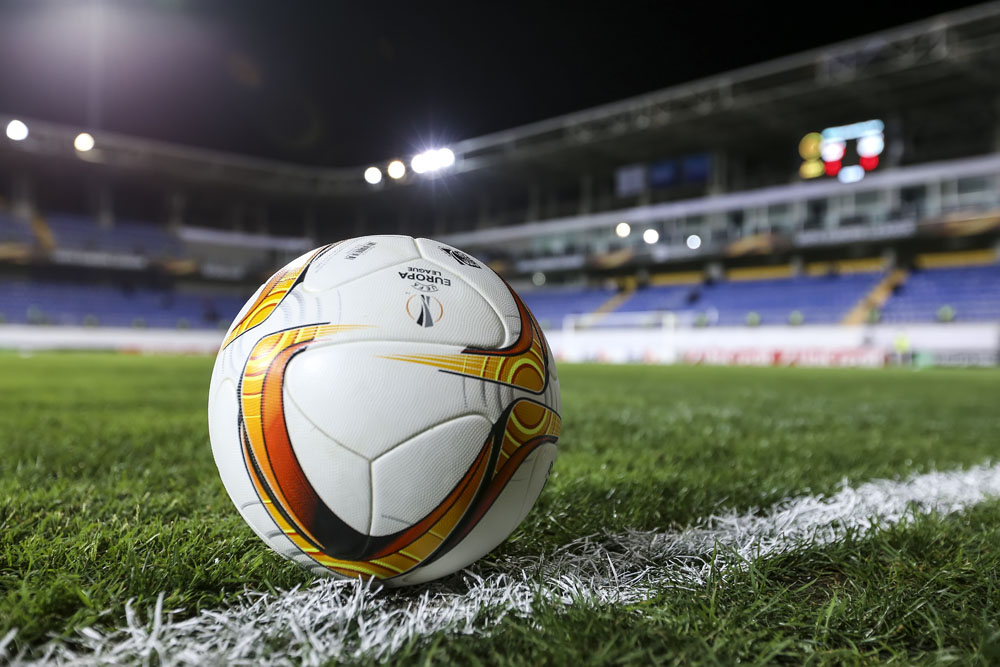ball: (207, 232, 564, 585)
